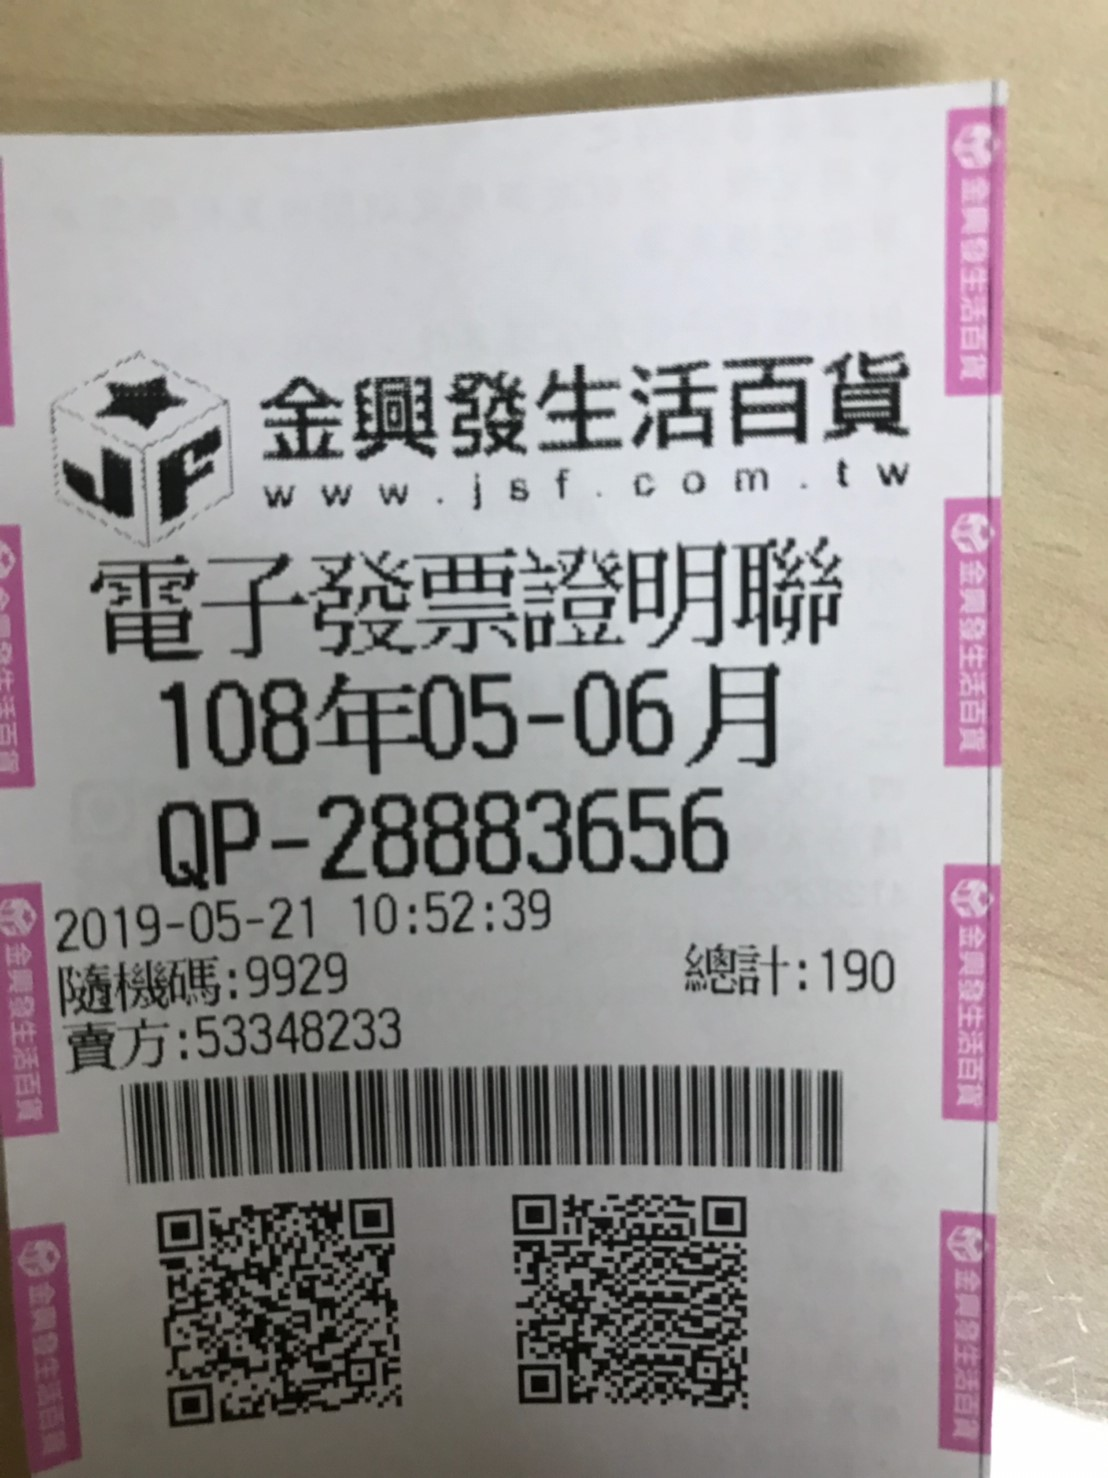Date_New: (161, 661, 789, 777)
Number_New: (312, 783, 737, 876)
